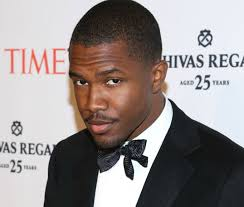black_male: (61, 1, 181, 150)
